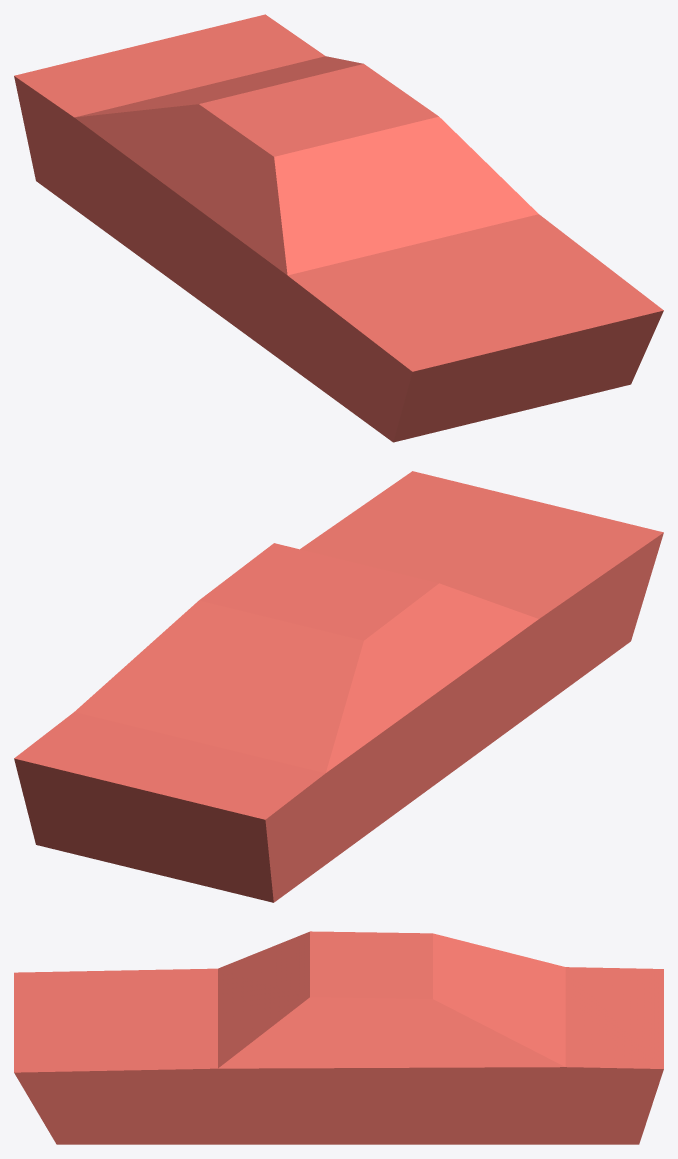
File: car2.glb
The picture shows the model from 3 angles, top to bottom: view 1: azimuth 30°, elevation 25°; view 2: azimuth 150°, elevation 25°; view 3: azimuth 270°, elevation 25°; orthographic projection. The views are drawn at different scales.
Parts seen in each view (by area): view 1: Cube; view 2: Cube; view 3: Cube.
Part boxes in pixels (x1,y1,x2,y2): Cube: (14, 14, 663, 442); Cube: (14, 471, 663, 902); Cube: (14, 931, 663, 1144).
Bounding box in the file's own units: 1.89 × 1.17 × 5.19.
